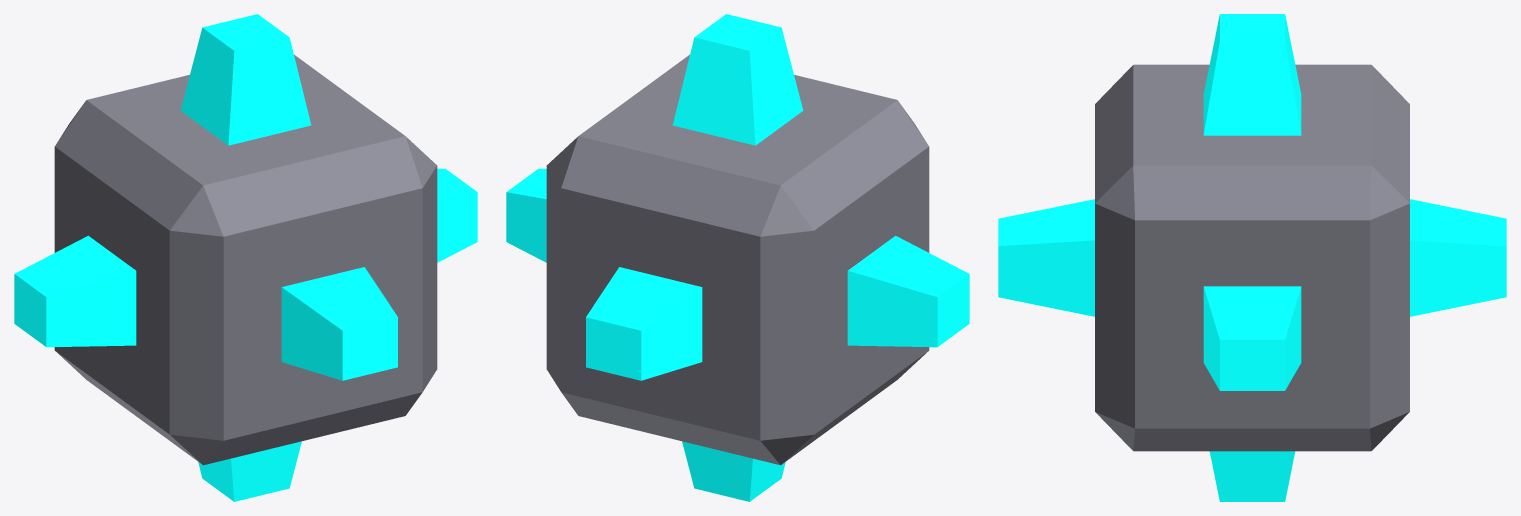
File: silver_pharaoh.gltf
The picture shows the model from 3 angles, left to right: view 1: azimuth 30°, elevation 25°; view 2: azimuth 150°, elevation 25°; view 3: azimuth 270°, elevation 25°; orthographic projection. The views are drawn at different scales.
Parts seen in each view (by area): view 1: silver_pharaoh; view 2: silver_pharaoh; view 3: silver_pharaoh.
Part boxes in pixels (x1,y1,x2,y2): silver_pharaoh: (14,14,477,501); silver_pharaoh: (506,14,969,501); silver_pharaoh: (998,14,1506,501).
Size of what is drawn, in the model's own units: 2.39 by 2.39 by 2.39.
Materials: 2 (2 with a texture image).
